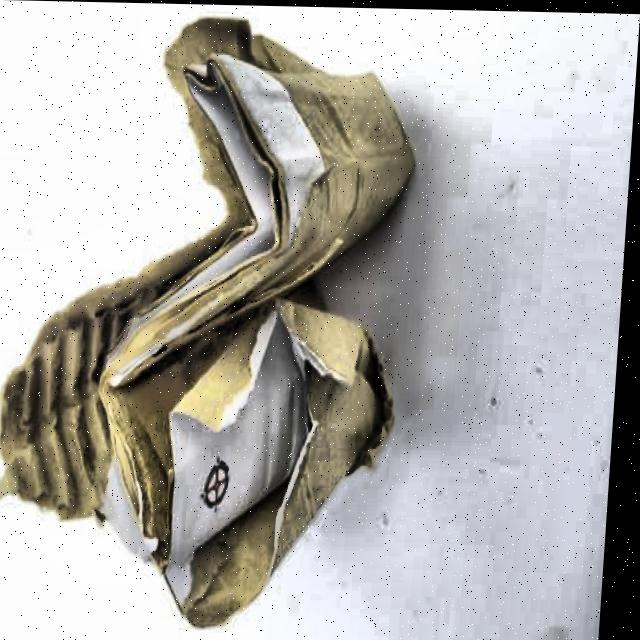cardboard: (0, 9, 424, 631)
